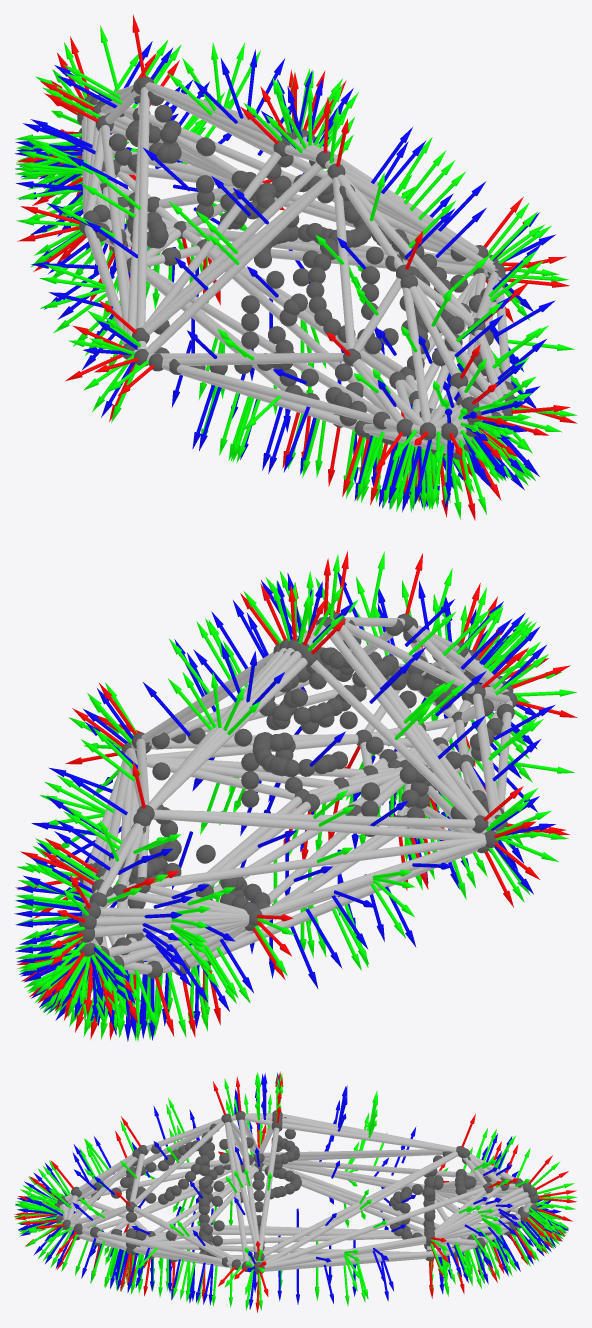
File: scaffolds3d_submarine.gltf
3 views of the same model, one above another, from view 1: azimuth 30°, elevation 25°; view 2: azimuth 150°, elevation 25°; view 3: azimuth 270°, elevation 25° (orthographic). The views are drawn at different scales.
Size of the model in its own units: 0.606 by 0.4146 by 1.01.
